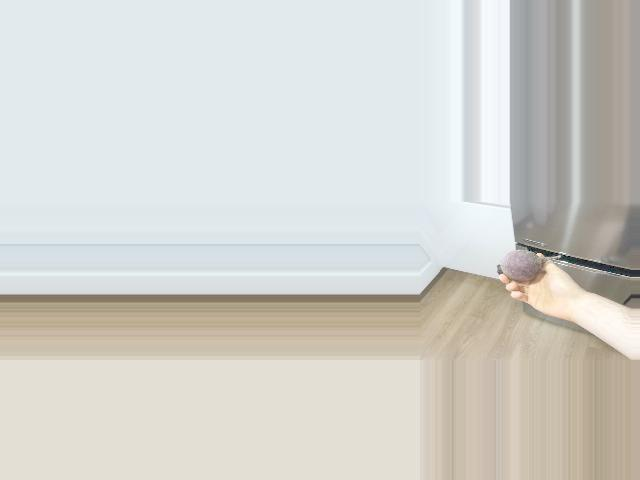beet: (496, 250, 559, 280)
